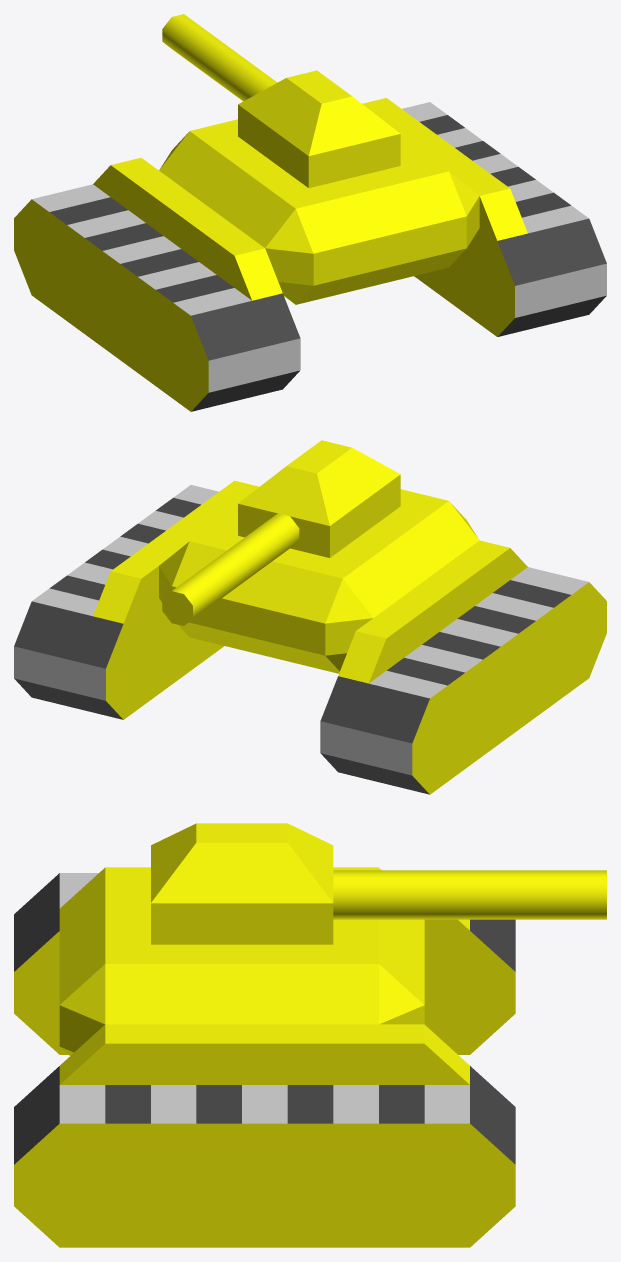
The model's file is playerA.fbx.
3 renders of one model, top to bottom at view 1: azimuth 30°, elevation 25°; view 2: azimuth 150°, elevation 25°; view 3: azimuth 270°, elevation 25°, orthographic. The views are drawn at different scales.
Parts seen in each view (by area): view 1: playerA; view 2: playerA; view 3: playerA.
Boxes of the visible parts, x1,y1,x2,y2 form: playerA: [14, 14, 606, 411]; playerA: [14, 440, 606, 794]; playerA: [14, 823, 606, 1247].
Size of the model in its own units: 1.62 by 0.875 by 1.62.
